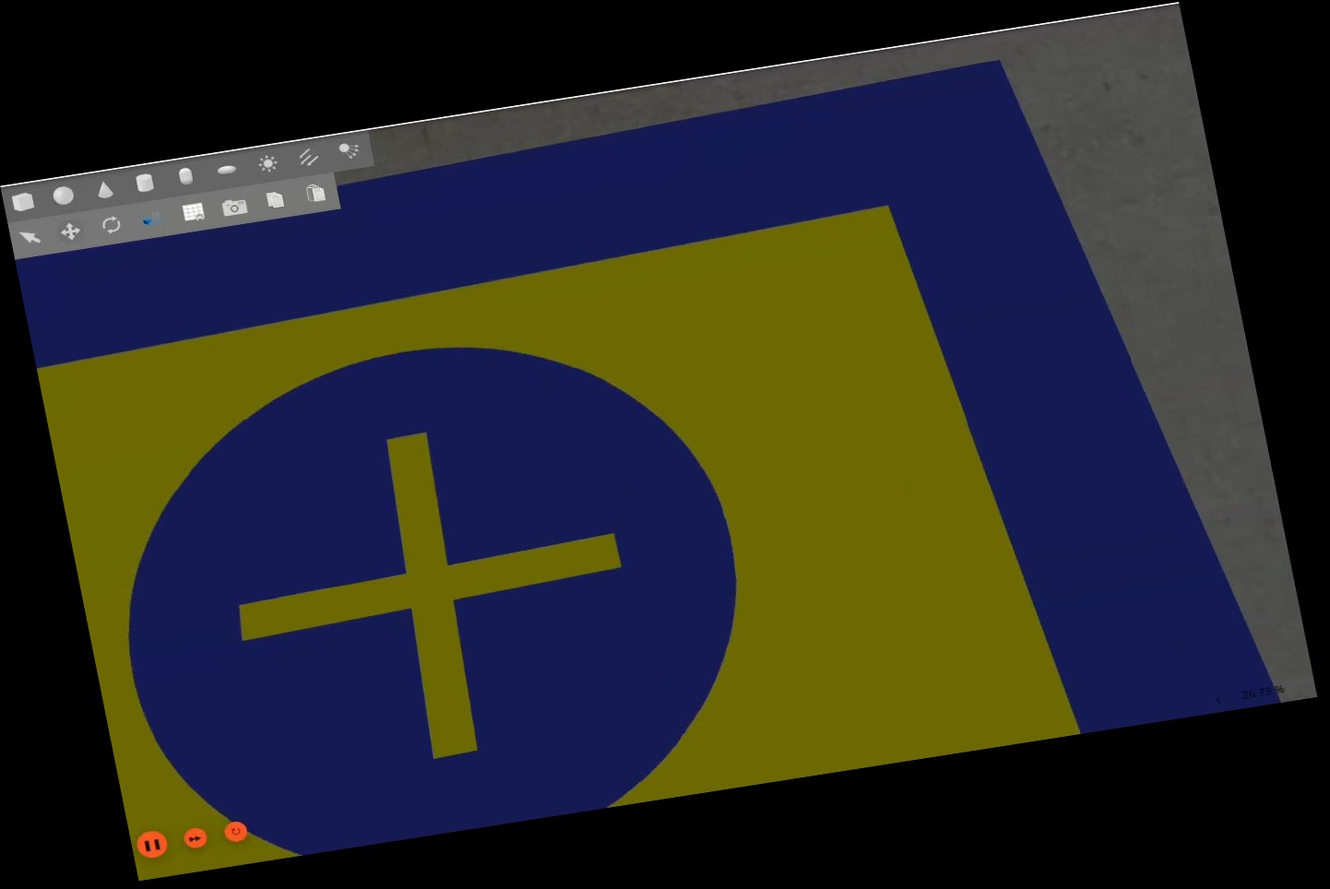large_base: (6, 31, 1287, 883)
